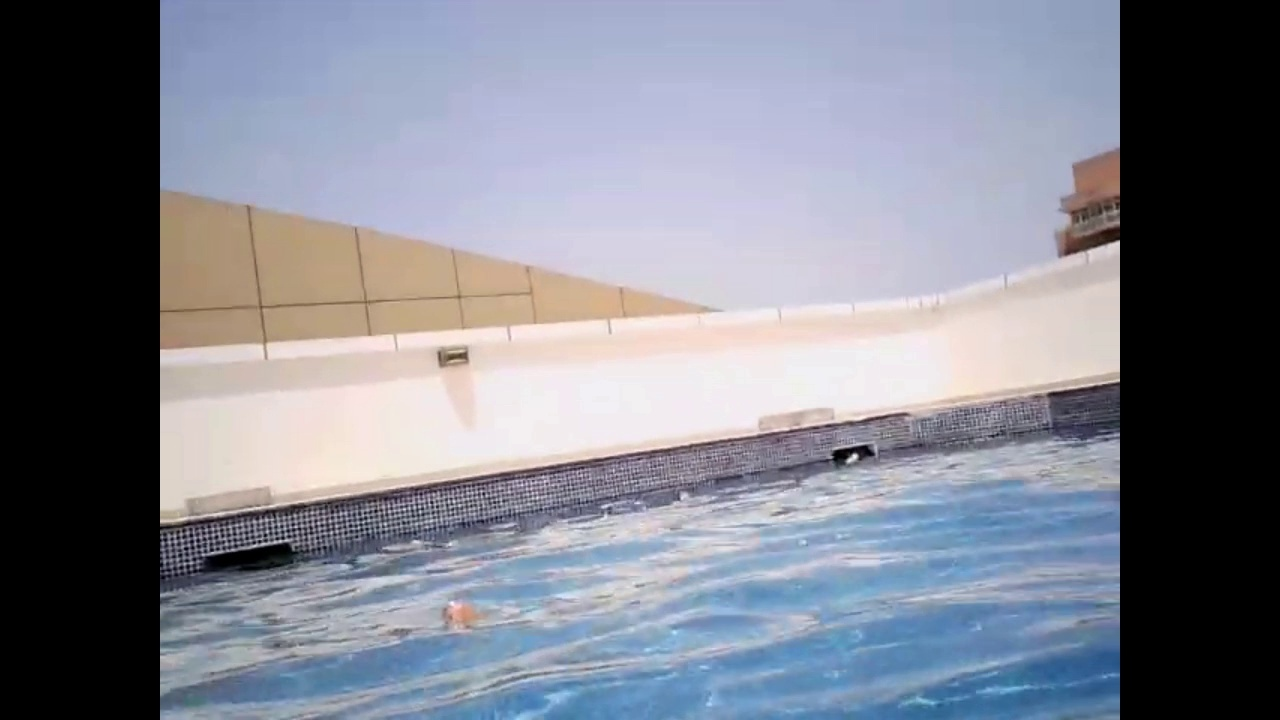debris: (436, 590, 482, 642), (596, 500, 618, 518), (673, 487, 694, 505), (840, 451, 862, 466), (630, 497, 646, 514)
